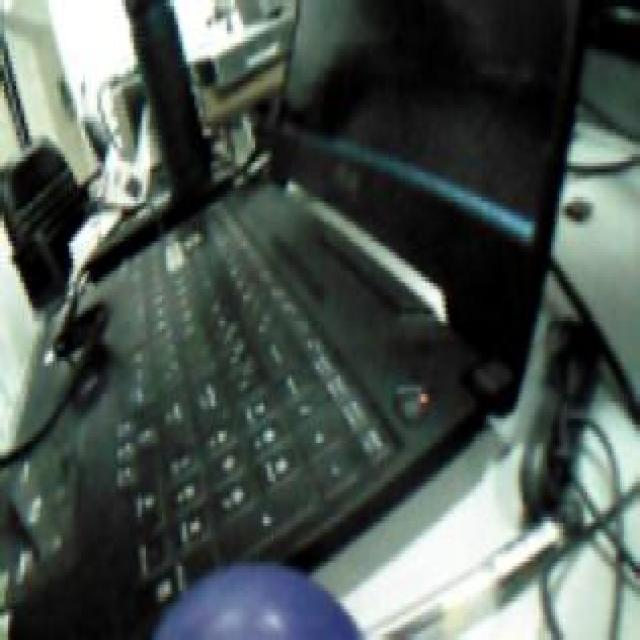BallPurple: (142, 560, 364, 640)
